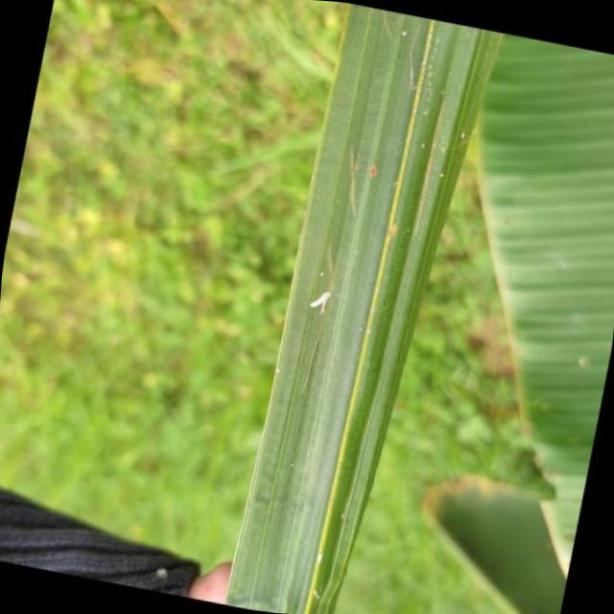Boron: (225, 0, 507, 614)
